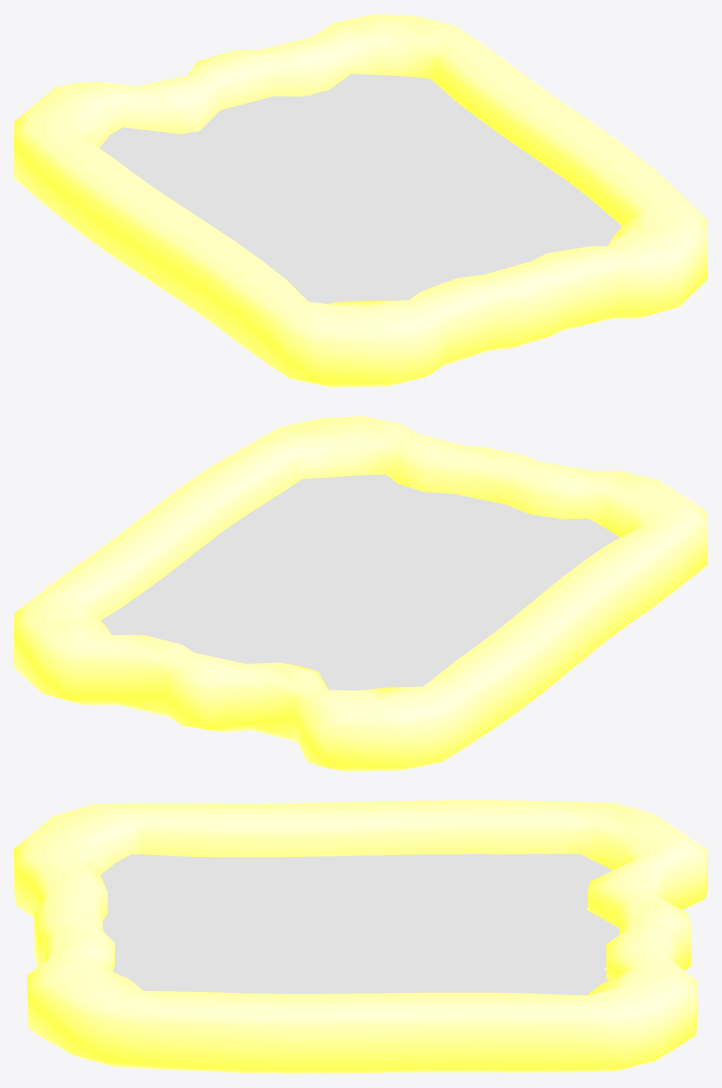
Rendered from torn_page.glb.
3 renders of one model, top to bottom at view 1: azimuth 30°, elevation 25°; view 2: azimuth 150°, elevation 25°; view 3: azimuth 270°, elevation 25°, orthographic. The views are drawn at different scales.
Parts seen in each view (by area): view 1: Indicator, Cube; view 2: Indicator, Cube; view 3: Indicator, Cube.
Boxes of the visible parts, box(x1,y1,x2,y2) form: Indicator: box(14, 14, 707, 387); Cube: box(99, 74, 621, 303); Indicator: box(14, 416, 707, 771); Cube: box(100, 474, 619, 690); Indicator: box(14, 800, 707, 1073); Cube: box(100, 853, 619, 995).
Size of the model in its own units: 0.7497 by 0.1064 by 0.9914.
